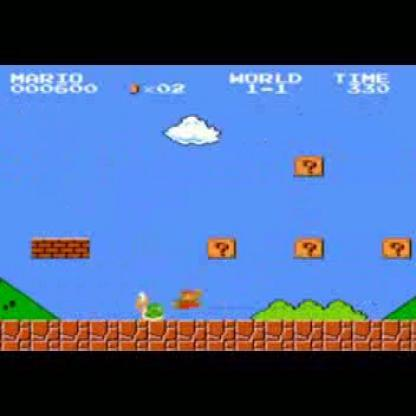Tortuga: (135, 288, 165, 325)
